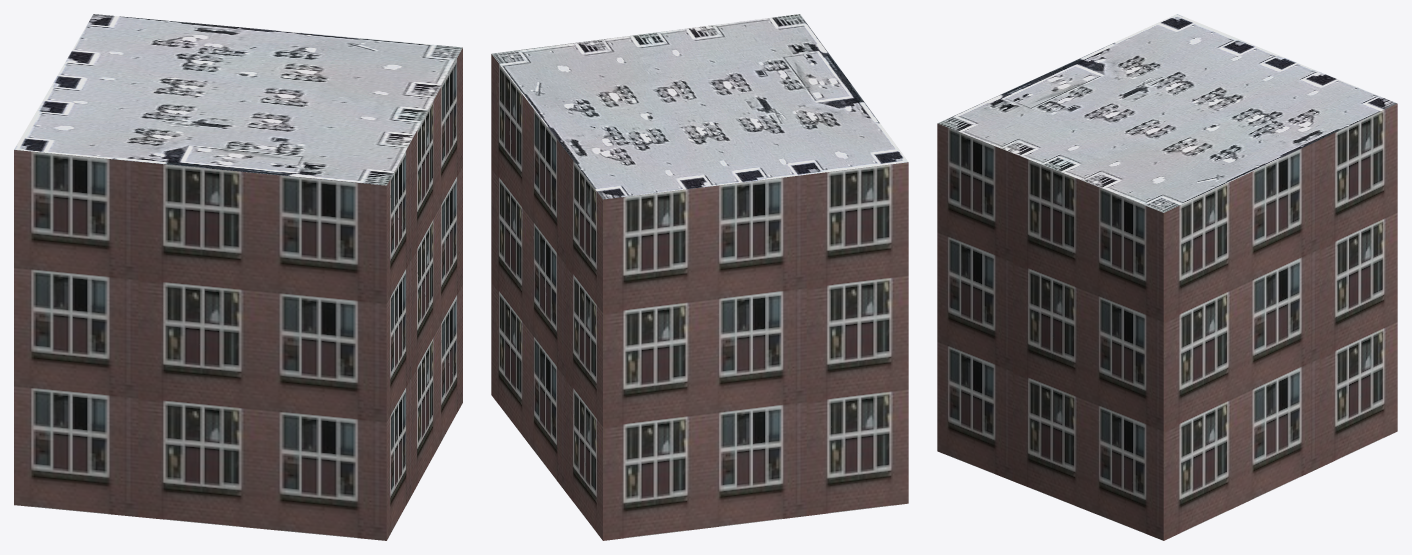
File: ResTex__4172.fbx
3 views of the same model, side by side, from view 1: azimuth 30°, elevation 25°; view 2: azimuth 150°, elevation 25°; view 3: azimuth 270°, elevation 25° (orthographic). The views are drawn at different scales.
Visible parts, largest first — view 1: CityEngineMaterial_12_m, CityEngineMaterial_8_m; view 2: CityEngineMaterial_12_m, CityEngineMaterial_8_m; view 3: CityEngineMaterial_12_m, CityEngineMaterial_8_m.
Boxes of the visible parts, bbox=[...] form: CityEngineMaterial_12_m: bbox=[14, 48, 462, 540]; CityEngineMaterial_8_m: bbox=[14, 14, 462, 185]; CityEngineMaterial_12_m: bbox=[491, 54, 908, 540]; CityEngineMaterial_8_m: bbox=[491, 14, 908, 199]; CityEngineMaterial_12_m: bbox=[937, 103, 1397, 540]; CityEngineMaterial_8_m: bbox=[938, 14, 1396, 212].
Bounding box in the file's own units: 11.71 × 9 × 11.44.
Materials: 2 (2 with a texture image).
